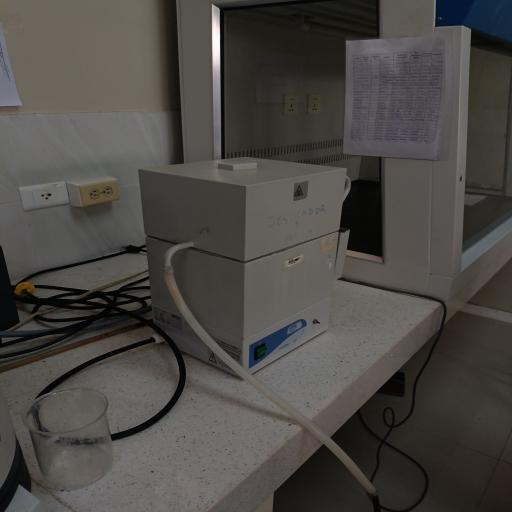Destilador_agua: (118, 144, 364, 386)
